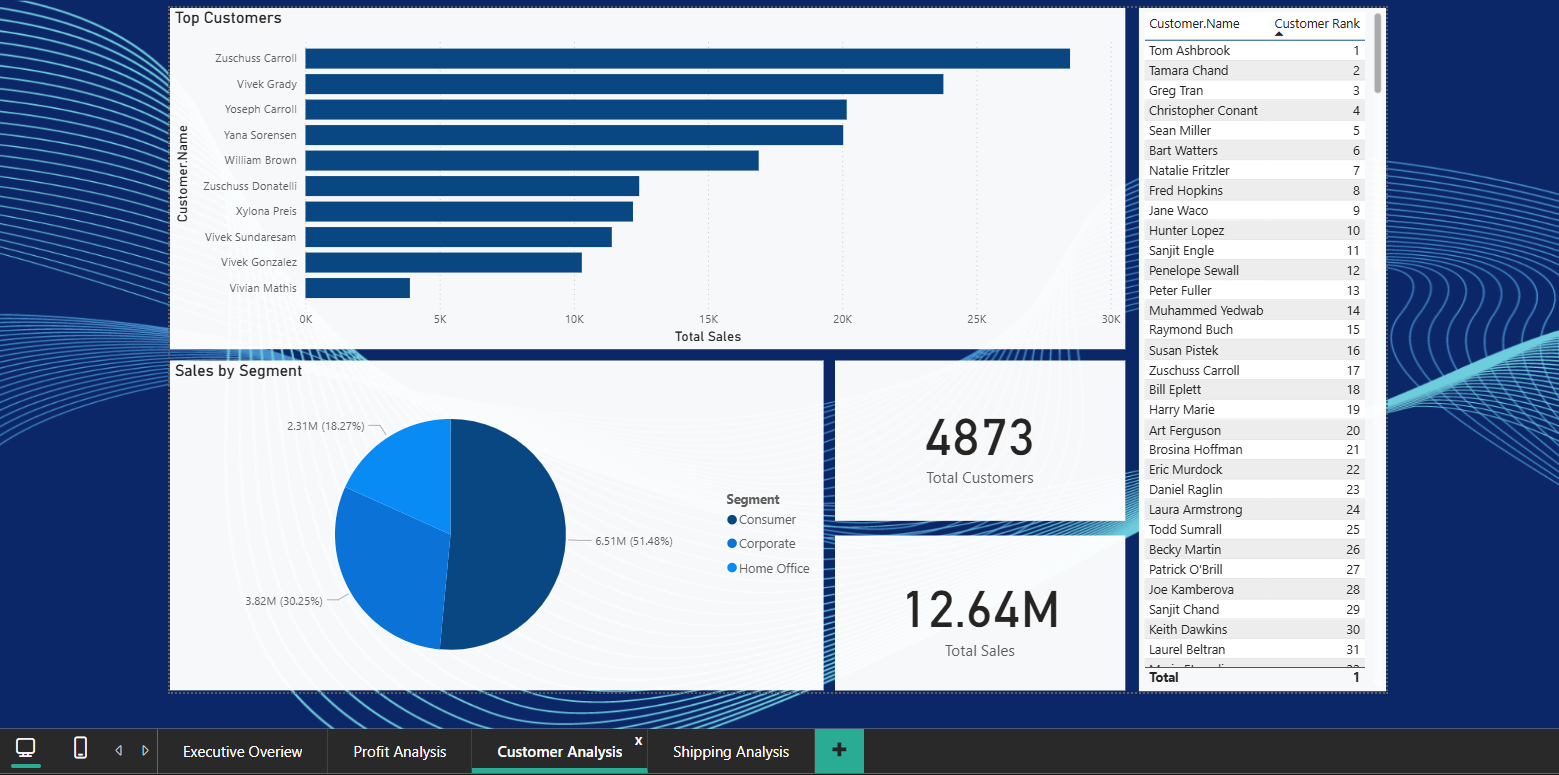

This screenshot's page, from the dashboard's own definition file:
{"tool":"powerbi","page":{"name":"Customer Analysis","canvas":[1280,720],"ordinal":2},"visuals":[{"type":"barChart","title":"Top  Customers","fields":{"Category":["superstore.Customer.Name"],"Y":["DateTable.Total Sales"]},"box":[0,0,1005.4,359.5],"z":0},{"type":"pieChart","title":"Sales by Segment","fields":{"Category":["superstore.Segment"],"Y":["DateTable.Total Sales"]},"box":[0,371.6,687.8,347.3],"z":1000},{"type":"tableEx","fields":{"Values":["superstore.Customer.Name","DateTable.Customer Rank"]},"box":[1019.5,0,261,719.5],"z":2000},{"type":"card","title":"Total Customers","fields":{"Values":["DateTable.Total Customers"]},"box":[700,371.6,305.4,168.9],"z":3000},{"type":"card","title":"Total Sales","fields":{"Values":["DateTable.Total Sales"]},"box":[700,555.4,305.4,163.5],"z":4000}]}

Visuals, with their boxes on the page's 1280x720 design canvas (x1, y1, x2, y2). These are canvas units, not pixel positions in the 1559x775 screenshot, which may show the page scaled, cropped or inside an application window:
"Top  Customers" barChart: left=0, top=0, right=1005, bottom=360
"Sales by Segment" pieChart: left=0, top=372, right=688, bottom=719
tableEx - superstore.Customer.Name x DateTable.Customer Rank: left=1020, top=0, right=1280, bottom=720
"Total Customers" card: left=700, top=372, right=1005, bottom=540
"Total Sales" card: left=700, top=555, right=1005, bottom=719
